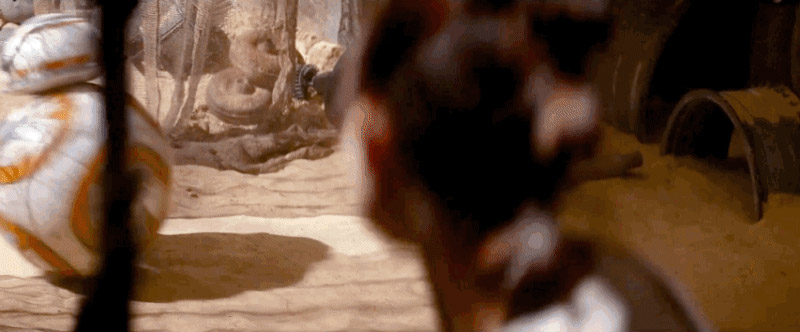bb8: (1, 13, 174, 280)
